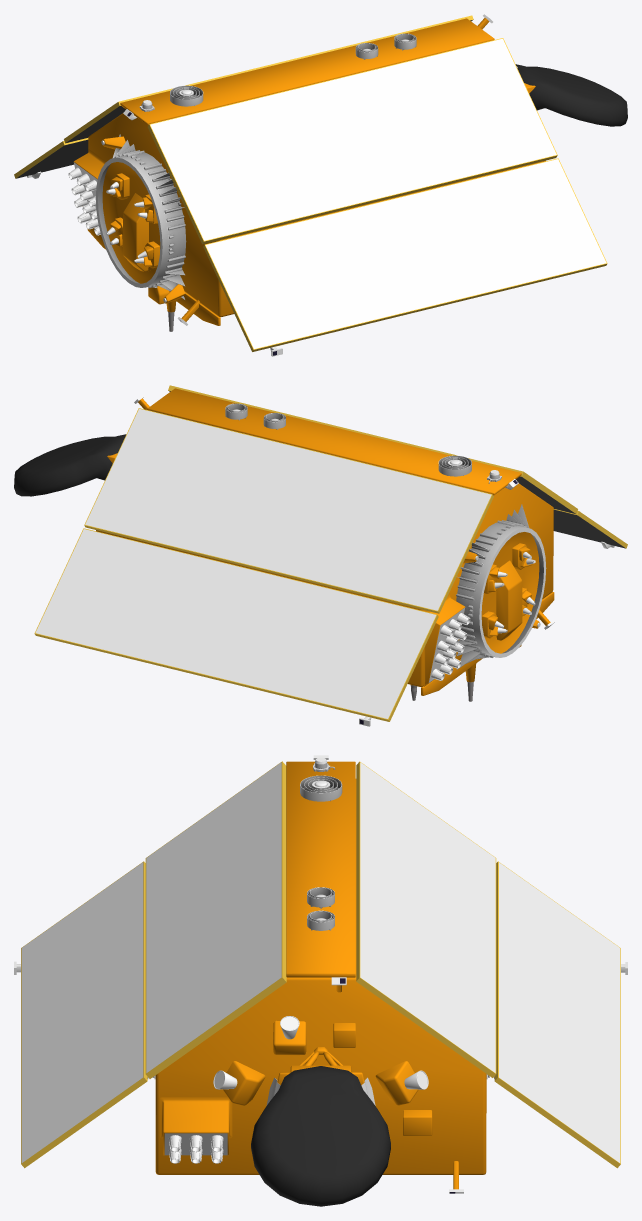
Rendered from Sentinal.glb.
3 renders of one model, top to bottom at view 1: azimuth 30°, elevation 25°; view 2: azimuth 150°, elevation 25°; view 3: azimuth 270°, elevation 25°, orthographic. The views are drawn at different scales.
Parts seen in each view (by area): view 1: array, BUS, MPPS, AMR, GNSS_POD_RO_SPA, GNSS; view 2: array, BUS, MPPS, AMR, GNSS, GNSS_POD_RO_SPA; view 3: array, BUS, AMR, GNSS_POD_RO_SPA, GNSS, starTrackers.
Boxes of the visible parts, bbox=[...] form: array: bbox=[14, 15, 607, 351]; BUS: bbox=[73, 18, 545, 325]; MPPS: bbox=[95, 134, 186, 299]; AMR: bbox=[515, 64, 627, 126]; GNSS_POD_RO_SPA: bbox=[139, 33, 416, 111]; GNSS: bbox=[68, 162, 100, 235]; array: bbox=[34, 385, 627, 721]; BUS: bbox=[96, 388, 554, 695]; MPPS: bbox=[456, 504, 546, 669]; AMR: bbox=[14, 434, 126, 496]; GNSS: bbox=[429, 607, 470, 682]; GNSS_POD_RO_SPA: bbox=[225, 403, 501, 483]; array: bbox=[21, 761, 620, 1168]; BUS: bbox=[155, 761, 486, 1189]; AMR: bbox=[251, 1066, 390, 1206]; GNSS_POD_RO_SPA: bbox=[300, 757, 342, 930]; GNSS: bbox=[164, 1133, 227, 1163]; starTrackers: bbox=[213, 1016, 428, 1089].
Bounding box in the file's own units: 5.13 × 2.32 × 4.37.
Materials: 17 (2 with a texture image).
